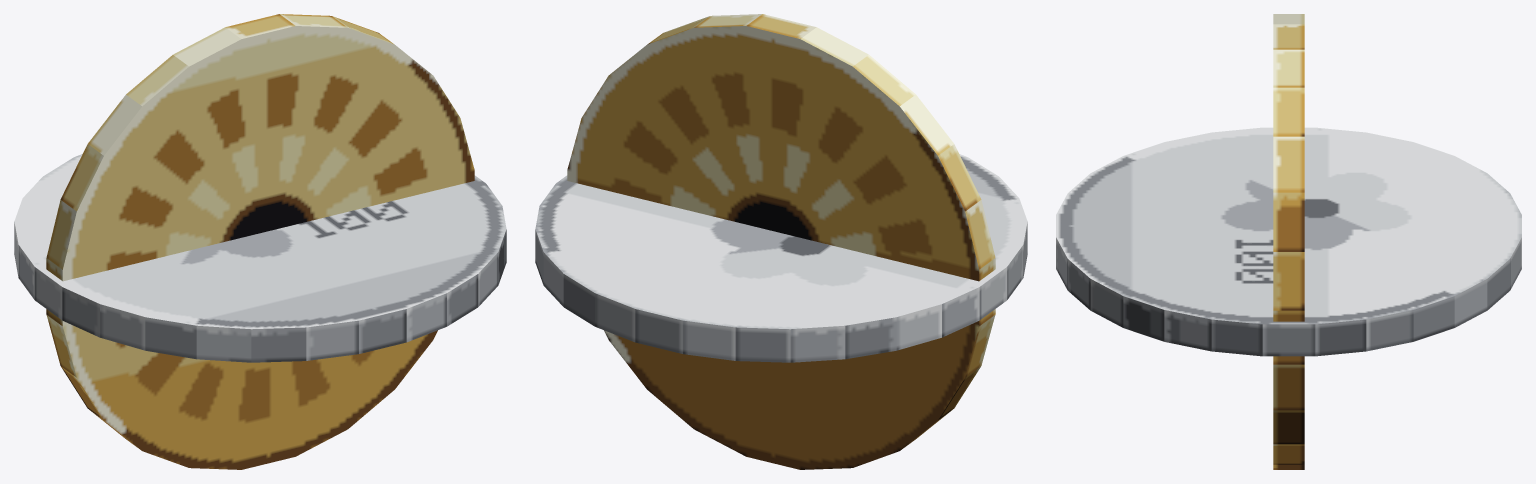
File: coins.glb
The picture shows the model from 3 angles, left to right: view 1: azimuth 30°, elevation 25°; view 2: azimuth 150°, elevation 25°; view 3: azimuth 270°, elevation 25°; orthographic projection. The views are drawn at different scales.
Visible parts, largest first — view 1: yen5, yen100; view 2: yen5, yen100; view 3: yen100, yen5.
Part boxes in pixels (x1=…): yen5: x1=46, y1=14, x2=474, y2=469; yen100: x1=14, y1=154, x2=506, y2=362; yen5: x1=567, y1=14, x2=995, y2=469; yen100: x1=535, y1=154, x2=1027, y2=362; yen100: x1=1056, y1=127, x2=1521, y2=356; yen5: x1=1273, y1=14, x2=1304, y2=469.
Size of the model in its own units: 0.0225 by 0.0218 by 0.0225.
Materials: 1 (1 with a texture image).
